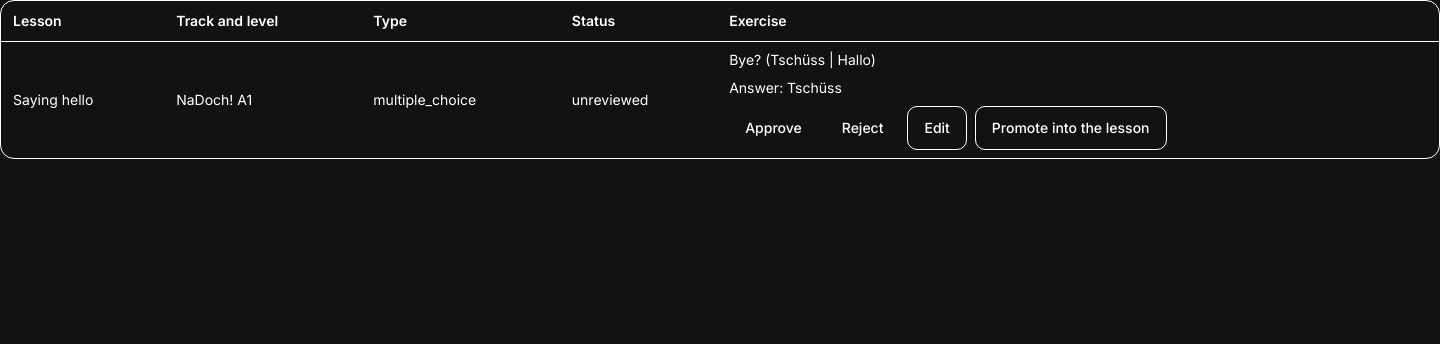
it: PracticePoolList › offers no instruction fields when editing pool content
Click the button "Edit".
click(937, 128)  # box [908,106,967,150]
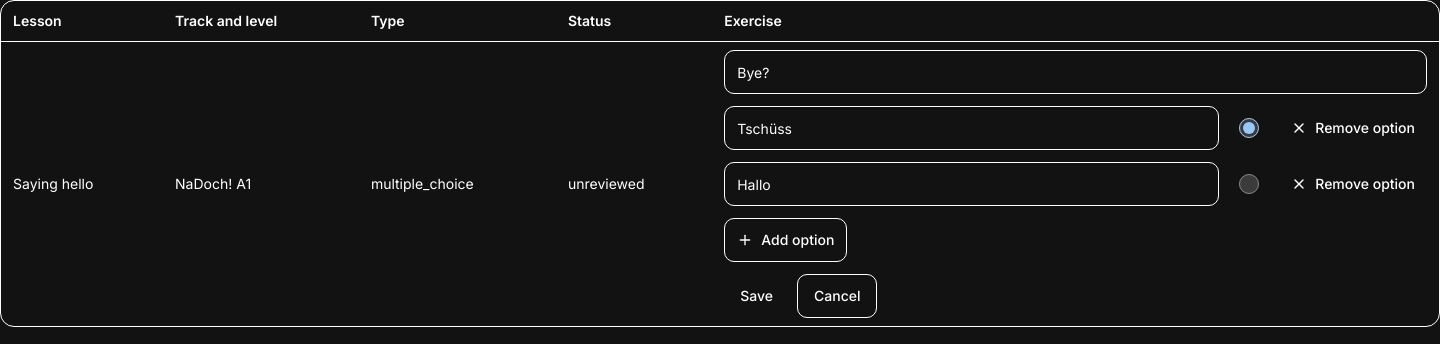
Expected: the field named "Exercise 1 question" is shown, [724,50,1427,94]
